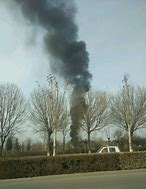smoke: (39, 1, 92, 138)
